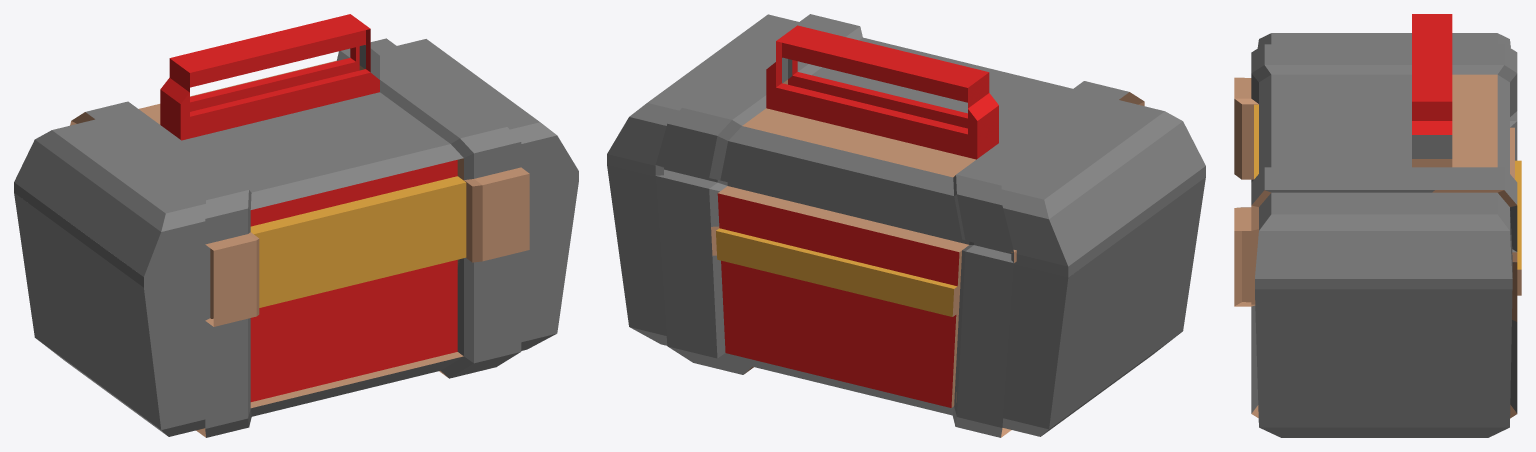
File: toolboxv2.fbx
The picture shows the model from 3 angles, left to right: view 1: azimuth 30°, elevation 25°; view 2: azimuth 150°, elevation 25°; view 3: azimuth 270°, elevation 25°; orthographic projection. The views are drawn at different scales.
Visible parts, largest first — view 1: Cube; view 2: Cube; view 3: Cube.
Boxes of the visible parts, x1=… form: Cube: x1=14, y1=14, x2=578, y2=437; Cube: x1=607, y1=14, x2=1205, y2=437; Cube: x1=1234, y1=14, x2=1521, y2=437.
Bounding box in the file's own units: 397 × 263 × 229.
